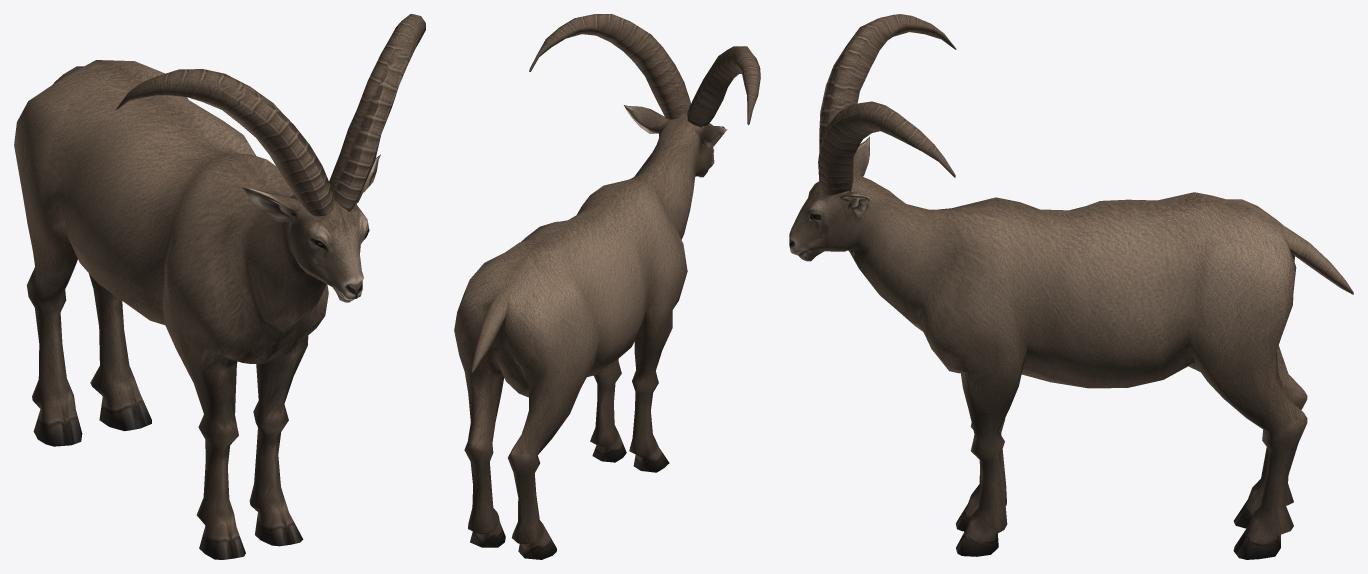
Rendered from swiss.fbx.
The picture shows the model from 3 angles, left to right: view 1: azimuth 30°, elevation 25°; view 2: azimuth 150°, elevation 25°; view 3: azimuth 270°, elevation 25°; orthographic projection. The views are drawn at different scales.
Visible parts, largest first — view 1: Mesh_0; view 2: Mesh_0; view 3: Mesh_0.
Part boxes in pixels (x1=…): Mesh_0: x1=14, y1=14, x2=425, y2=559; Mesh_0: x1=454, y1=14, x2=760, y2=559; Mesh_0: x1=789, y1=14, x2=1353, y2=559.
Size of the model in its own units: 53.71 by 92.97 by 100.
Materials: 1 (1 with a texture image).
